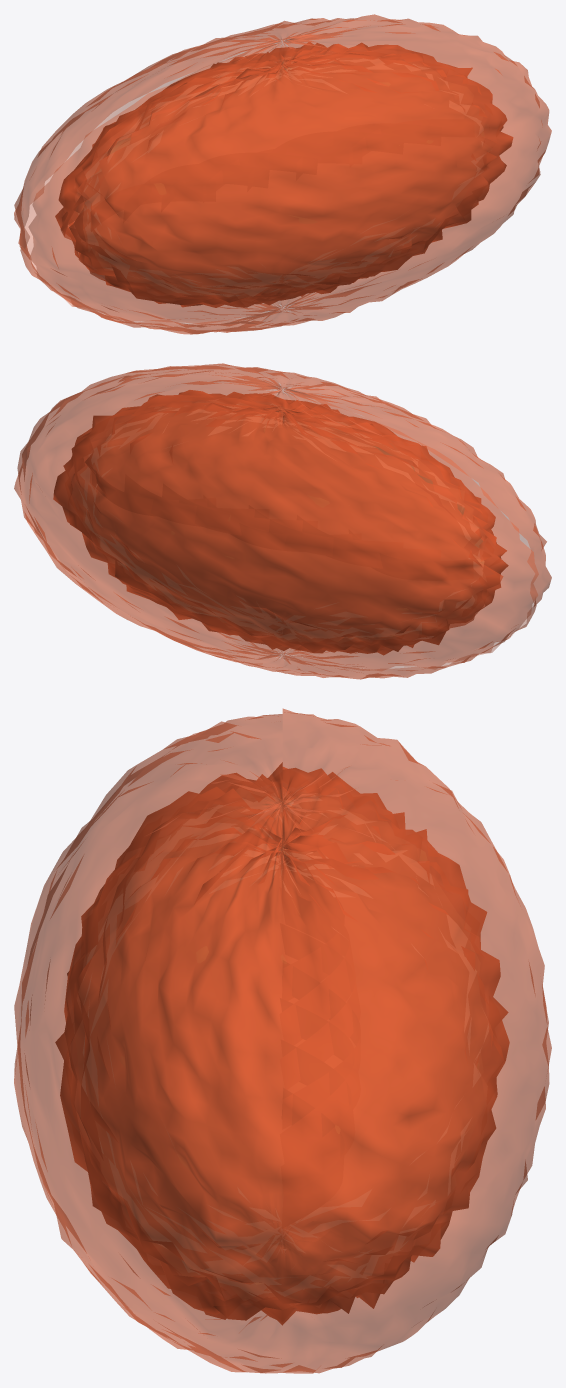
File: mitochondria.glb
3 views of the same model, one above another, from view 1: azimuth 30°, elevation 25°; view 2: azimuth 150°, elevation 25°; view 3: azimuth 270°, elevation 25° (orthographic). The views are drawn at different scales.
Parts seen in each view (by area): view 1: OuterMembrane, InnerMembrane; view 2: OuterMembrane, InnerMembrane; view 3: OuterMembrane, InnerMembrane.
Boxes of the visible parts, x1=… form: OuterMembrane: x1=14, y1=14, x2=551, y2=334; InnerMembrane: x1=55, y1=42, x2=513, y2=307; OuterMembrane: x1=14, y1=363, x2=551, y2=679; InnerMembrane: x1=53, y1=390, x2=508, y2=655; OuterMembrane: x1=14, y1=708, x2=551, y2=1373; InnerMembrane: x1=55, y1=762, x2=509, y2=1325.
Bounding box in the file's own units: 4.03 × 2.05 × 2.03.
